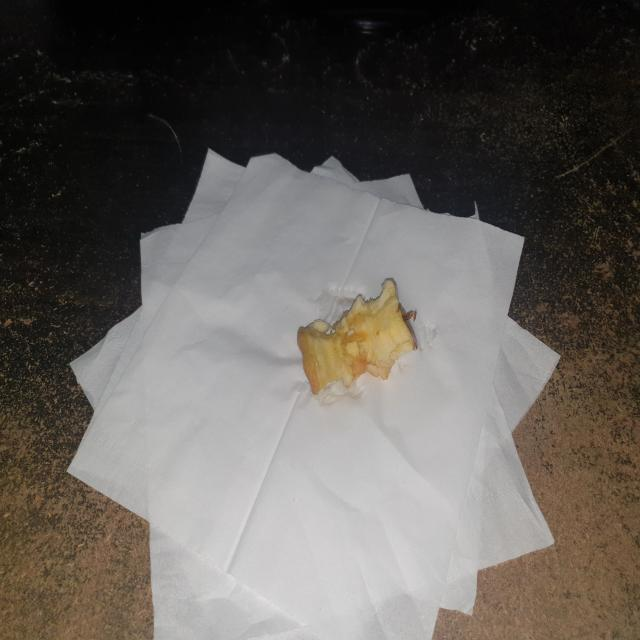apple: (290, 268, 428, 400)
